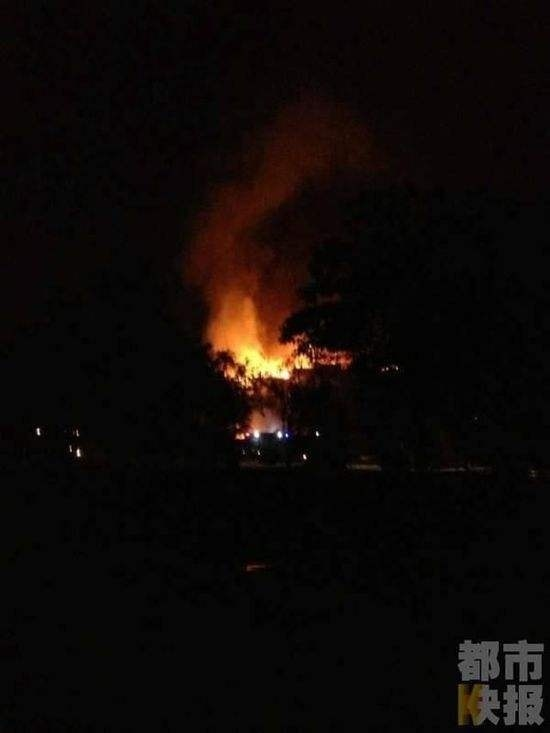fire: (218, 322, 323, 386)
